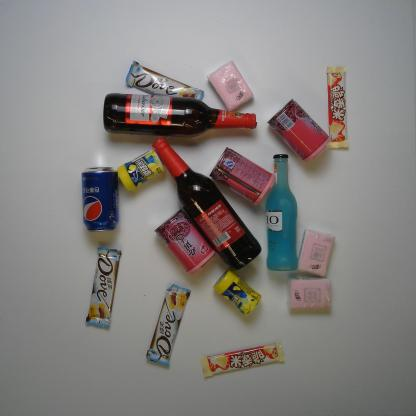Alcohol: (152, 134, 261, 268), (104, 92, 259, 140), (266, 147, 299, 275)
Canned Food: (267, 98, 333, 161), (208, 146, 276, 205), (157, 208, 215, 276)
Chocolate: (145, 284, 193, 370), (122, 62, 205, 108), (199, 345, 288, 381), (85, 247, 120, 329), (323, 67, 353, 150)
Drink: (77, 165, 119, 233)
Gum: (112, 148, 167, 192), (217, 272, 261, 316)
Tissue: (211, 61, 254, 110), (296, 228, 334, 278), (287, 278, 333, 309)
